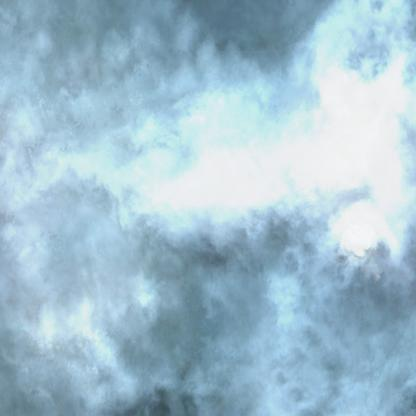fire: (280, 41, 390, 295)
